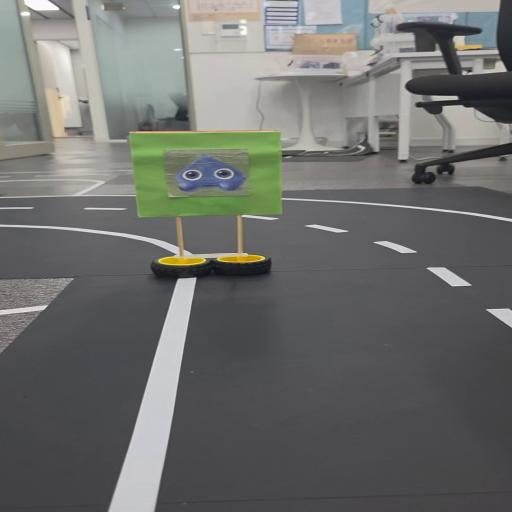Sign_B: (106, 122, 298, 286)
